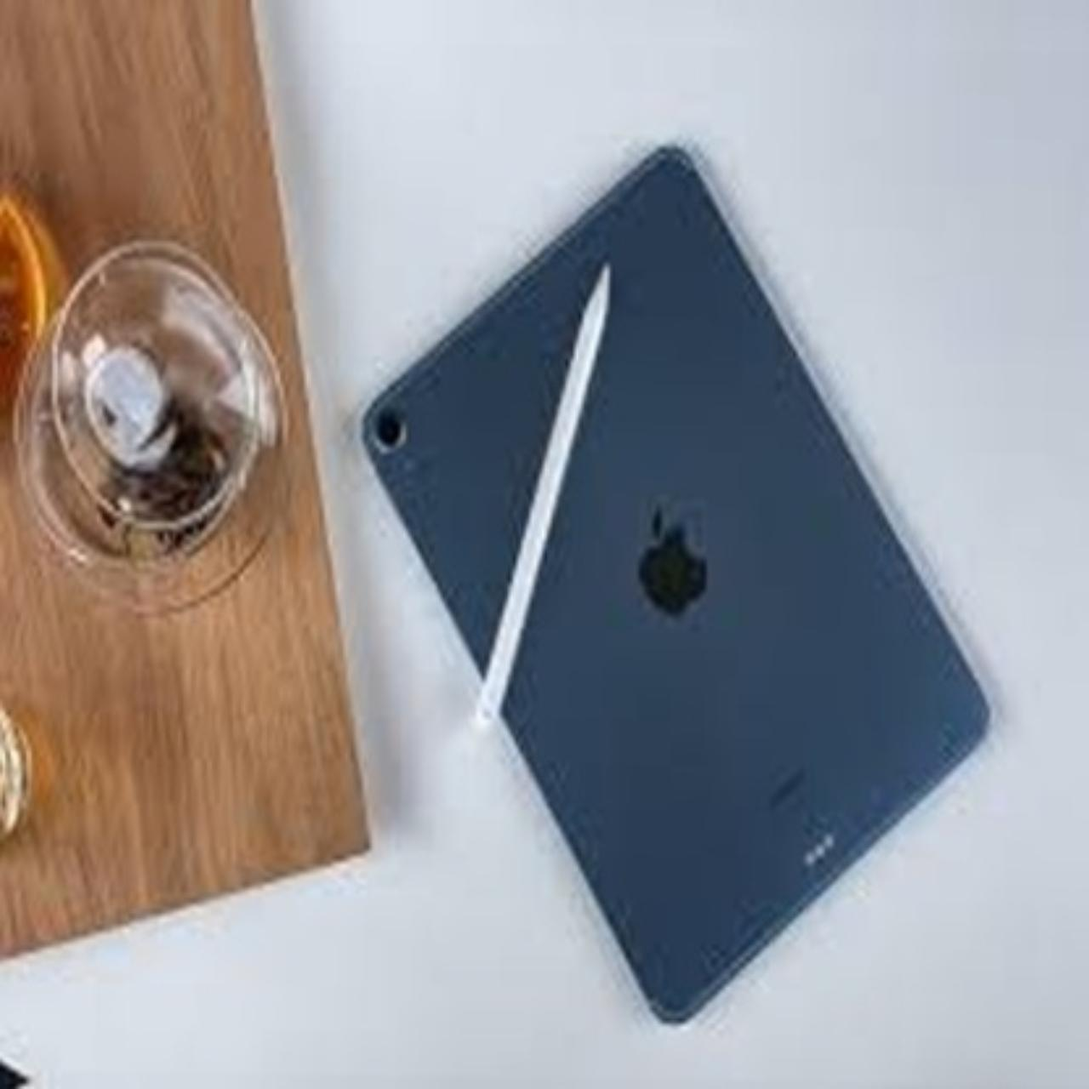Tablet_PC: (344, 128, 1027, 1044)
